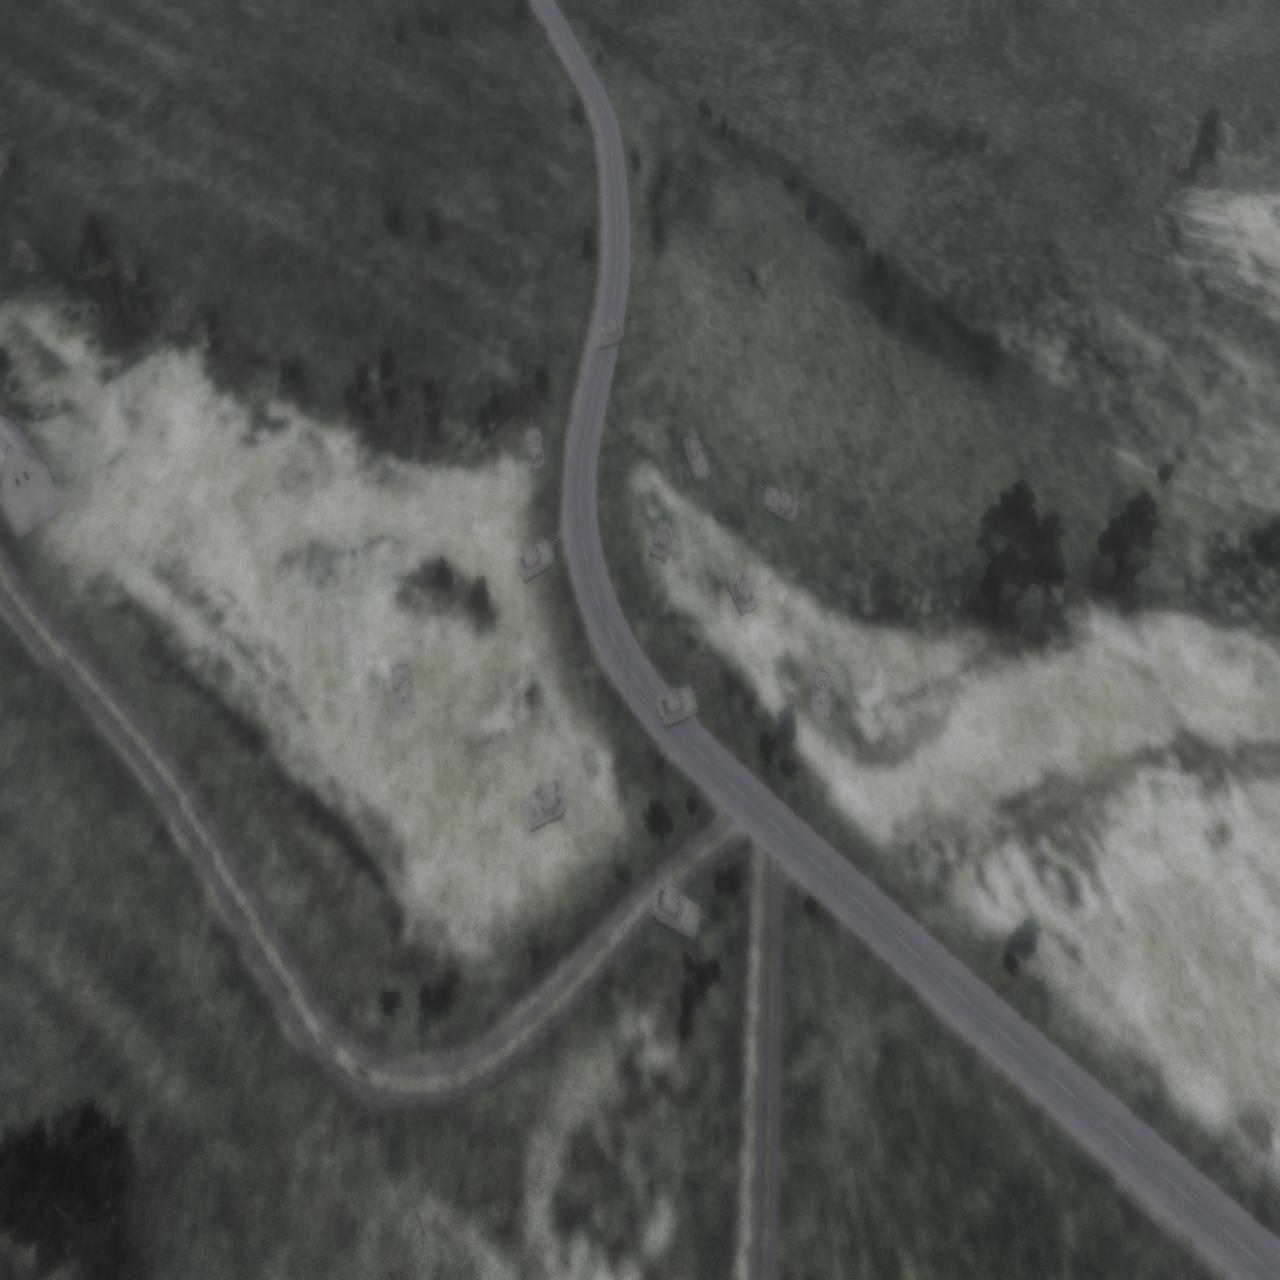MIL_Veh: (649, 877, 708, 941), (518, 776, 566, 834), (513, 532, 564, 580), (655, 681, 706, 726), (389, 656, 423, 718), (724, 564, 759, 615), (758, 482, 798, 526), (808, 660, 834, 724), (648, 509, 678, 564), (681, 428, 711, 480), (524, 411, 548, 474), (594, 316, 626, 349)
